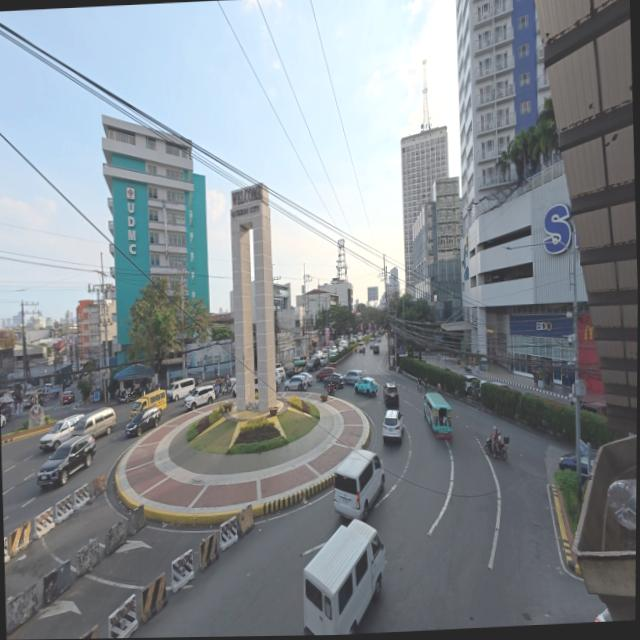Jeepneys: (425, 392, 453, 438)
car: (303, 520, 386, 634), (333, 450, 384, 520), (37, 435, 96, 486), (40, 415, 84, 450), (75, 407, 116, 438), (126, 407, 161, 436), (184, 385, 215, 410), (383, 410, 404, 441), (167, 378, 195, 401), (383, 382, 400, 407), (355, 377, 377, 396), (285, 376, 306, 392), (23, 392, 41, 410), (324, 373, 344, 389), (465, 375, 479, 394), (344, 370, 363, 384), (316, 367, 333, 382), (292, 372, 308, 387), (61, 390, 75, 405), (306, 357, 320, 371), (595, 609, 611, 621), (275, 367, 286, 383), (299, 372, 313, 384), (490, 381, 510, 389), (581, 456, 588, 478), (285, 365, 296, 378), (320, 354, 329, 365), (330, 347, 338, 358), (372, 343, 379, 354), (359, 342, 365, 354), (1, 415, 6, 428), (232, 381, 236, 397), (275, 363, 283, 369), (356, 335, 361, 341), (376, 336, 381, 342), (571, 395, 573, 400)
motorcycle: (484, 435, 509, 459), (117, 389, 130, 403), (327, 382, 334, 395), (463, 362, 471, 373)
vans: (303, 520, 386, 634), (334, 450, 384, 519), (74, 407, 116, 438), (130, 390, 166, 420), (184, 384, 215, 410), (167, 377, 195, 401), (359, 342, 365, 353)
